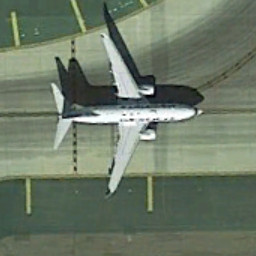Airplane: (27, 22, 214, 207)
